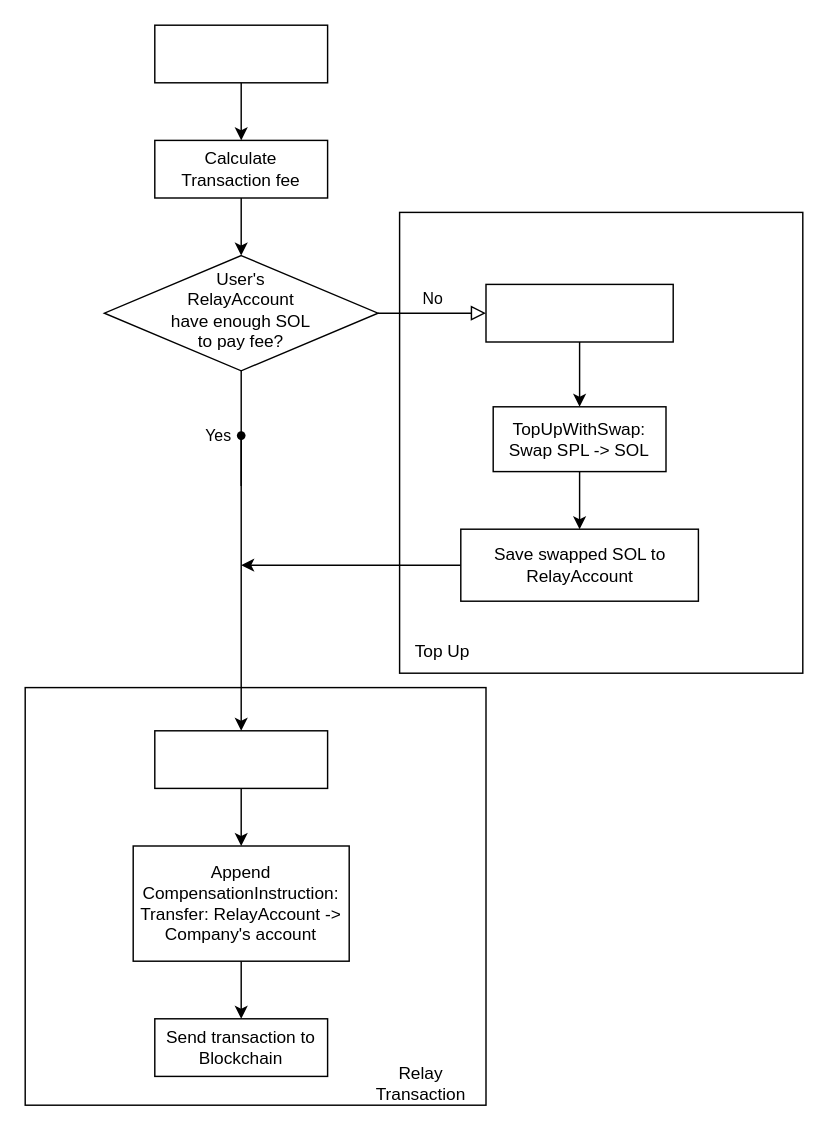
Image size: 828x1130. Some labels were removed from this diagram. Here are the shapes that lost their labels. From the top down, the centre of each, then its label:
At point 240,53: "Form Instructions".
At point 579,312: "Calculate NeededTopUpAmount".
At point 240,758: "Change Fee Payer to Company's account".
